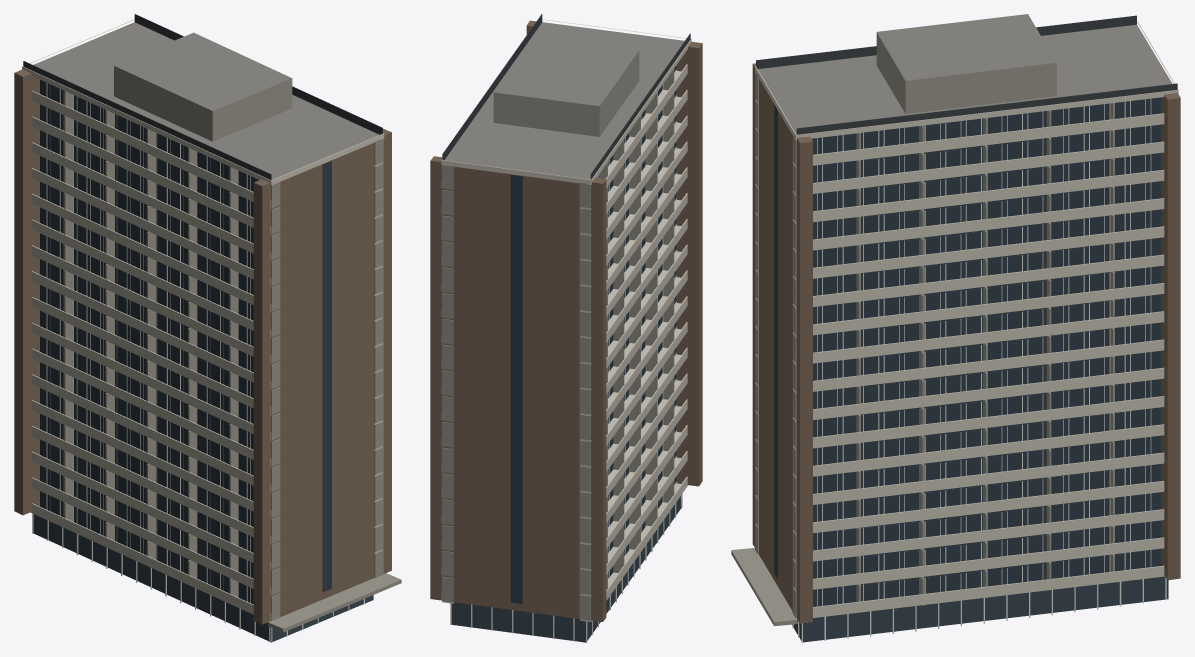
File: campden_hill_towers.glb
The picture shows the model from 3 angles, left to right: view 1: azimuth 30°, elevation 25°; view 2: azimuth 150°, elevation 25°; view 3: azimuth 270°, elevation 25°; orthographic projection. The views are drawn at different scales.
Bounding box in the file's own units: 29.26 × 62 × 46.11.
